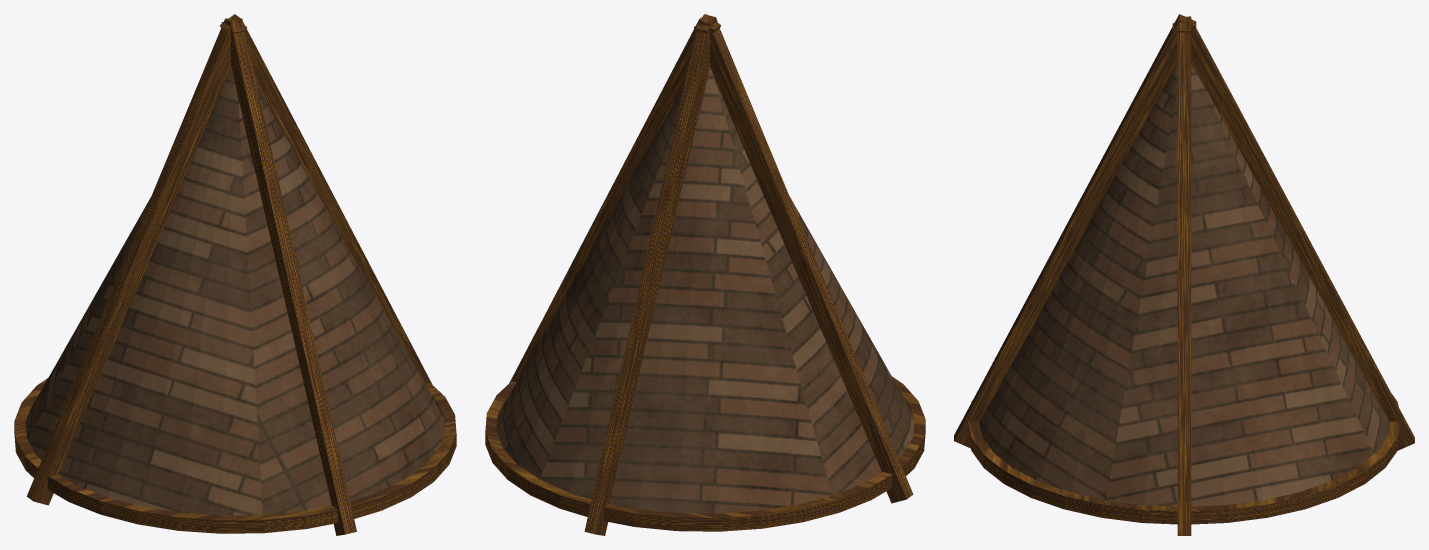
File: Roof Round.fbx
3 views of the same model, side by side, from view 1: azimuth 30°, elevation 25°; view 2: azimuth 150°, elevation 25°; view 3: azimuth 270°, elevation 25° (orthographic).
Visible parts, largest first — view 1: Cone; view 2: Cone; view 3: Cone.
Boxes of the visible parts, <box> form: Cone: <box>14,14,456,535</box>; Cone: <box>485,14,925,535</box>; Cone: <box>954,14,1414,535</box>.
Size of the model in its own units: 1146 by 1146 by 1183.
